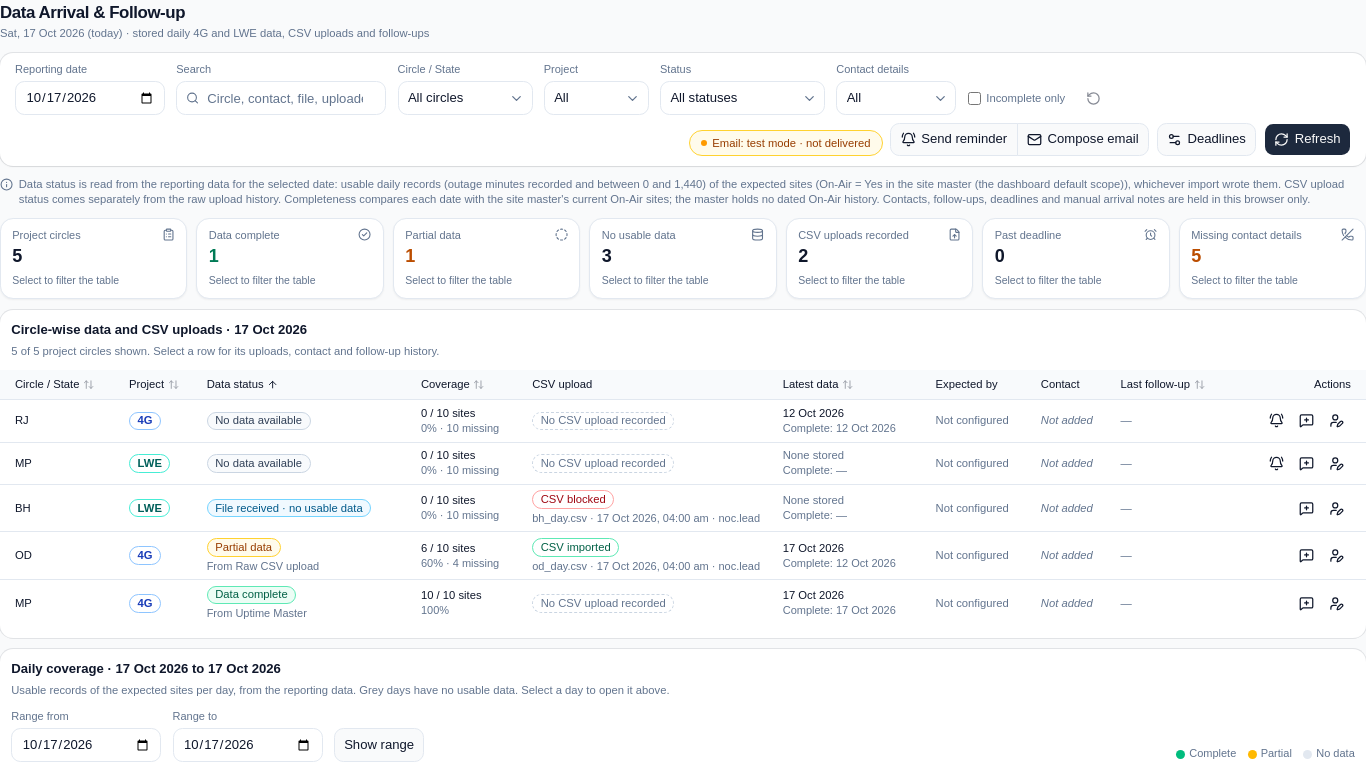
Test: Data Arrival & Follow-up › opens the details: stored data, every upload with its state, latest dates and contact
Click the row named "BH LWE: open details".
click(683, 508)  # box left=0, top=484, right=1365, bottom=532
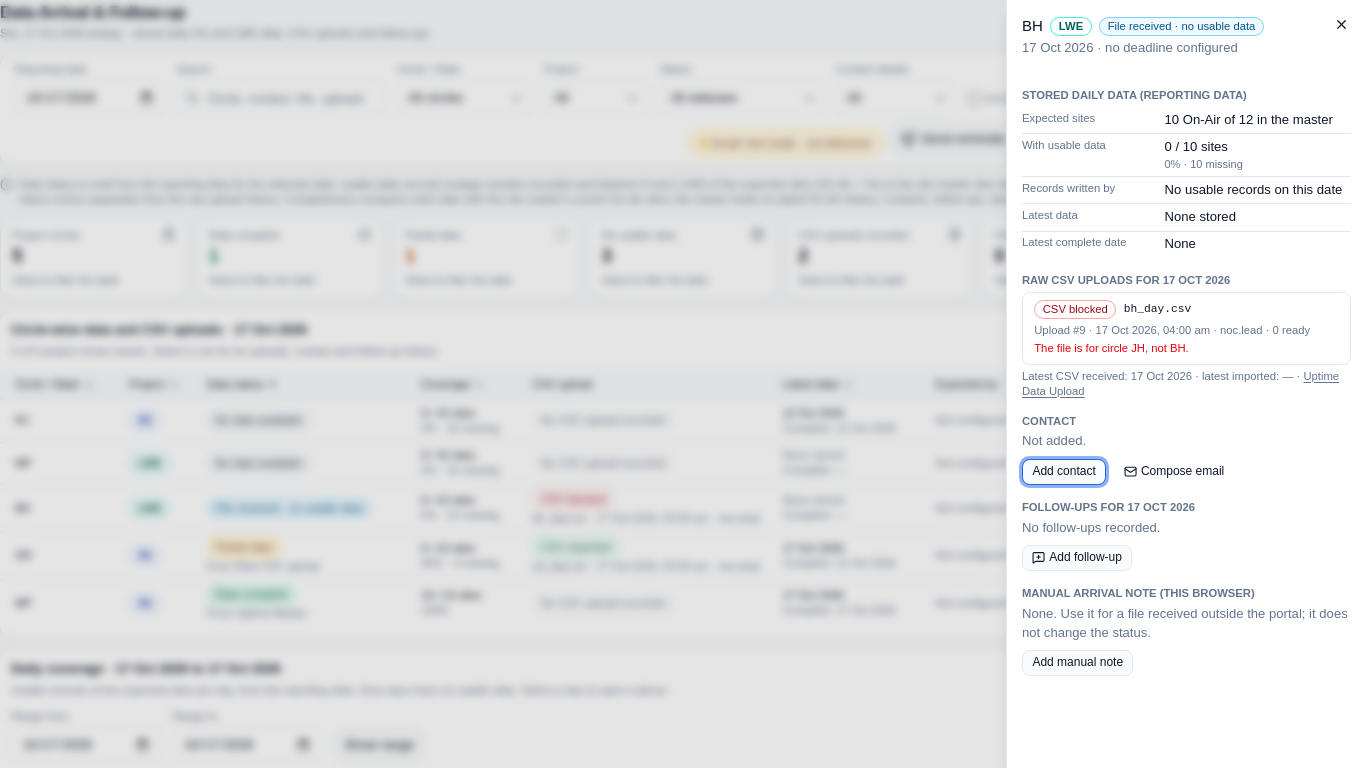
Expected: the element "CSV uploads" shows "CSV blocked", left=1043, top=303, right=1108, bottom=315
Expected: the element "CSV uploads" shows "bh_day.csv", left=1124, top=303, right=1191, bottom=315
Expected: the element "CSV uploads" shows "Upload #9", left=1022, top=273, right=1351, bottom=399
Press Escape
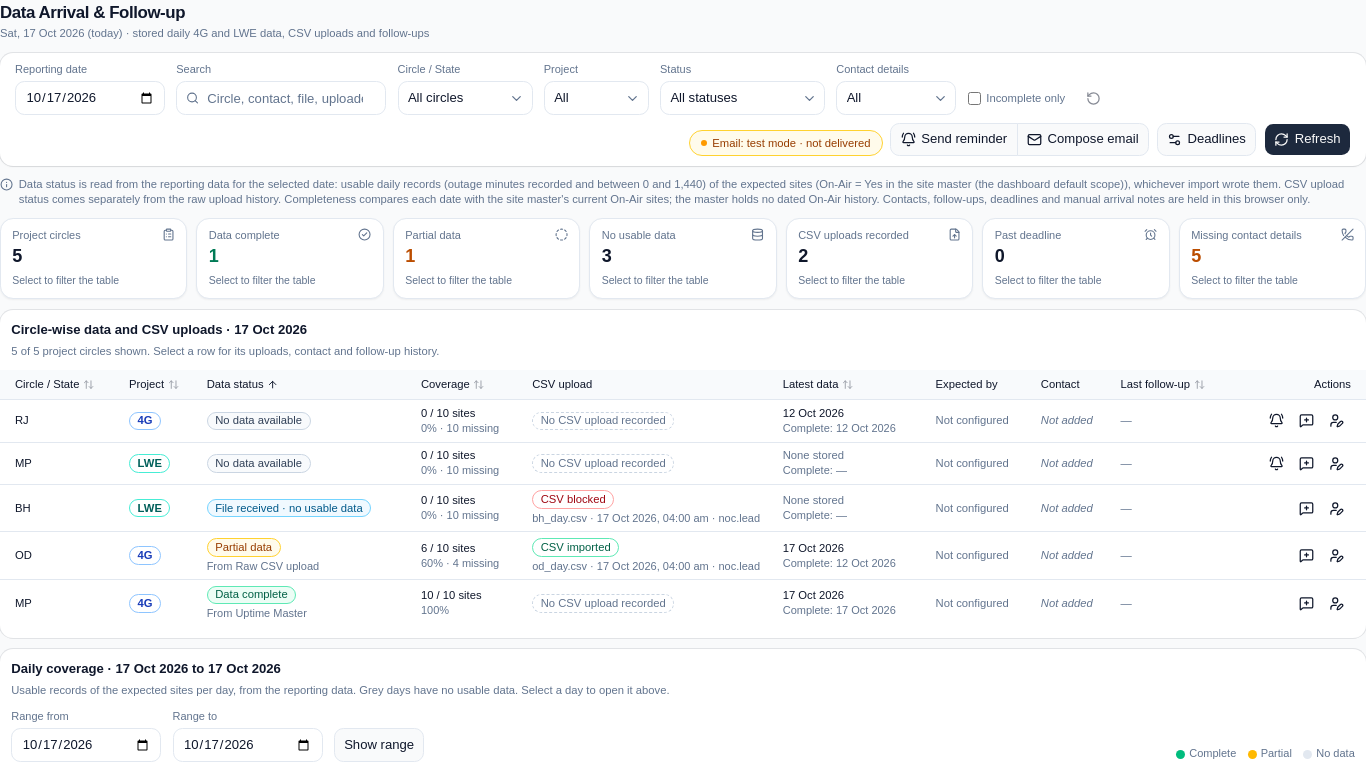
Click the row named "MP 4G: open details".
click(145, 603)  # box left=0, top=579, right=1365, bottom=626
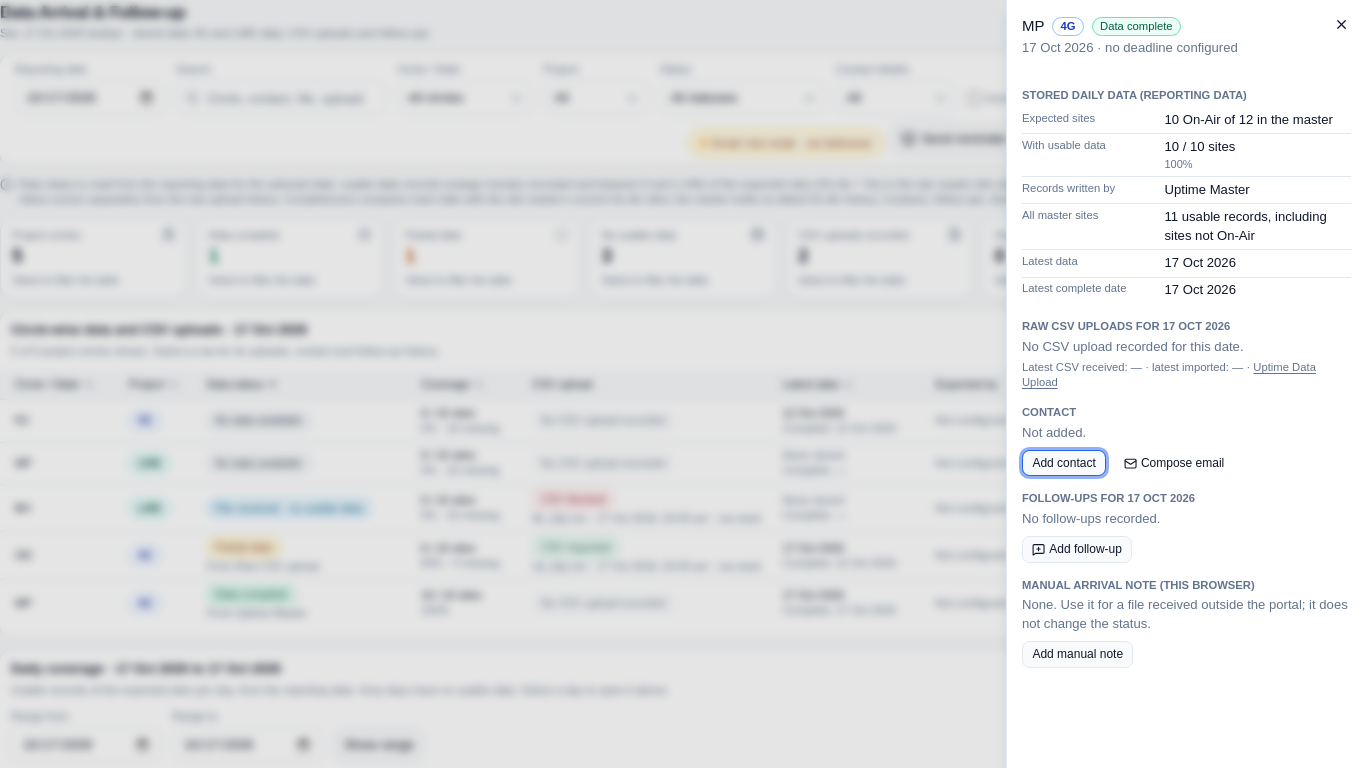
Expected: the element "Stored daily data" shows "Uptime Master", left=1164, top=182, right=1250, bottom=197
Expected: the element "Stored daily data" shows "11 usable records, including sites not On-Air", left=1164, top=209, right=1327, bottom=243
Expected: the element "CSV uploads" shows "No CSV upload recorded for this date.", left=1022, top=339, right=1244, bottom=354
